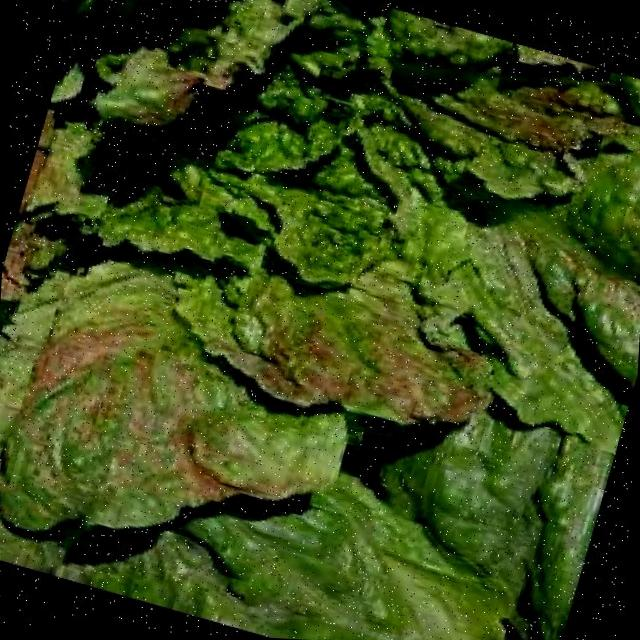Lettuce Mosaic Virus: (163, 0, 640, 463), (0, 307, 235, 540)
